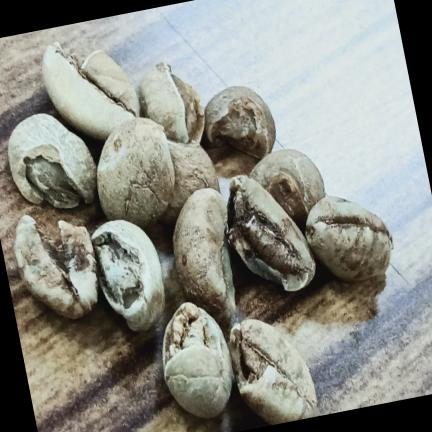cut: (227, 175, 315, 291), (228, 319, 318, 425), (42, 43, 134, 141), (14, 215, 98, 319), (97, 118, 175, 227), (173, 188, 236, 322), (8, 114, 97, 208), (163, 302, 234, 418), (91, 220, 164, 331), (306, 196, 393, 281), (250, 149, 325, 229), (139, 63, 205, 144), (205, 86, 275, 159), (161, 141, 220, 223)
